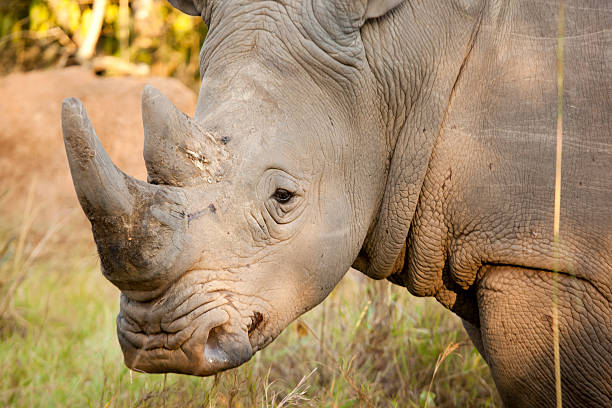rhino: (40, 27, 397, 384)
